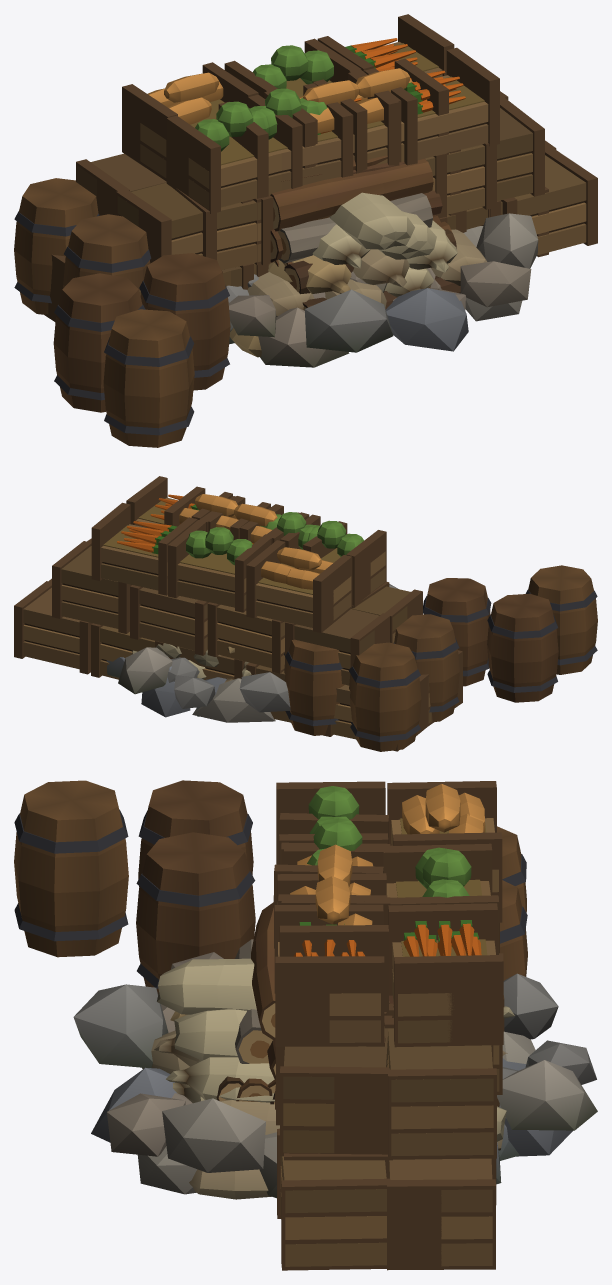
Rendered from stockpiles.glb.
3 views of the same model, one above another, from view 1: azimuth 30°, elevation 25°; view 2: azimuth 150°, elevation 25°; view 3: azimuth 270°, elevation 25° (orthographic). The views are drawn at different scales.
Parts seen in each view (by area): view 1: pile_food_40_mesh, pile_food_20_mesh, pile_stone_30_mesh, pile_grain_30_mesh, pile_firewood_20_mesh, pile_food_8_mesh, pile_firewood_14_mesh; view 2: pile_food_40_mesh, pile_food_20_mesh, pile_stone_30_mesh, pile_grain_30_mesh, pile_stone_15_mesh; view 3: pile_food_40_mesh, pile_stone_30_mesh, pile_grain_30_mesh, pile_food_20_mesh, pile_firewood_20_mesh, pile_food_8_mesh, pile_firewood_14_mesh, pile_stone_15_mesh.
Boxes of the visible parts, box(x1,y1,x2,y2) form: pile_food_40_mesh: box(44, 14, 597, 447); pile_food_20_mesh: box(14, 58, 548, 314); pile_stone_30_mesh: box(226, 213, 538, 367); pile_grain_30_mesh: box(229, 192, 486, 357); pile_firewood_20_mesh: box(270, 155, 460, 310); pile_food_8_mesh: box(261, 69, 498, 265); pile_firewood_14_mesh: box(270, 158, 451, 266); pile_food_40_mesh: box(14, 476, 597, 751); pile_food_20_mesh: box(164, 486, 459, 751); pile_stone_30_mesh: box(106, 584, 397, 722); pile_grain_30_mesh: box(111, 643, 251, 683); pile_stone_15_mesh: box(167, 657, 226, 716); pile_food_40_mesh: box(14, 780, 504, 1270); pile_stone_30_mesh: box(73, 952, 597, 1198); pile_grain_30_mesh: box(151, 958, 514, 1199); pile_food_20_mesh: box(274, 813, 527, 1178); pile_firewood_20_mesh: box(216, 902, 393, 1104); pile_food_8_mesh: box(273, 845, 392, 1015); pile_firewood_14_mesh: box(236, 1040, 275, 1102); pile_stone_15_mesh: box(172, 1058, 526, 1160).
Size of the model in its own units: 3.79 by 1.32 by 2.63.
